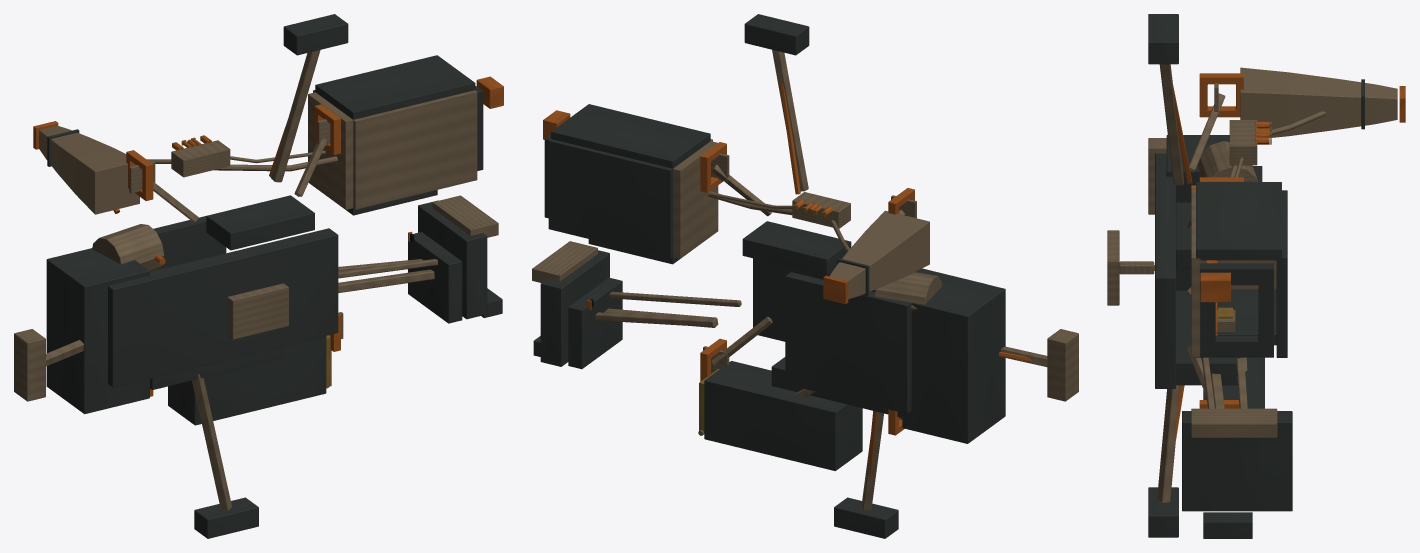
The model's file is place_claim_outpost_refinery.glb.
The picture shows the model from 3 angles, left to right: view 1: azimuth 30°, elevation 25°; view 2: azimuth 150°, elevation 25°; view 3: azimuth 270°, elevation 25°; orthographic projection. The views are drawn at different scales.
Visible parts, largest first — view 1: LOD1_Station_Material_Hull, LOD0_Station_Material_Hull, LOD2_Station_Material_Hull, LOD0_Station_Material_Mechanical, LOD1_Station_Material_Mechanical, LOD2_Station_Material_Mechanical, LOD2_Station_Material_Warm, LOD1_Station_Material_Warm, LOD0_Station_Material_Warm; view 2: LOD0_Station_Material_Hull, LOD1_Station_Material_Hull, LOD2_Station_Material_Hull, LOD1_Station_Material_Mechanical, LOD2_Station_Material_Mechanical, LOD0_Station_Material_Mechanical, LOD1_Station_Material_Warm, LOD2_Station_Material_Warm, LOD0_Station_Material_Warm; view 3: LOD0_Station_Material_Hull, LOD1_Station_Material_Hull, LOD2_Station_Material_Hull, LOD0_Station_Material_Mechanical, LOD2_Station_Material_Mechanical, LOD1_Station_Material_Mechanical, LOD1_Station_Material_Warm, LOD0_Station_Material_Warm, LOD2_Station_Material_Warm.
Part boxes in pixels (left/top/right/bottom): LOD1_Station_Material_Hull: left=46, top=14, right=502, bottom=538; LOD0_Station_Material_Hull: left=47, top=14, right=501, bottom=537; LOD2_Station_Material_Hull: left=46, top=14, right=502, bottom=538; LOD0_Station_Material_Mechanical: left=14, top=92, right=497, bottom=400; LOD1_Station_Material_Mechanical: left=14, top=90, right=498, bottom=400; LOD2_Station_Material_Mechanical: left=14, top=50, right=498, bottom=510; LOD2_Station_Material_Warm: left=33, top=78, right=503, bottom=396; LOD1_Station_Material_Warm: left=34, top=76, right=503, bottom=396; LOD0_Station_Material_Warm: left=35, top=80, right=501, bottom=347; LOD0_Station_Material_Hull: left=534, top=14, right=1005, bottom=537; LOD1_Station_Material_Hull: left=533, top=17, right=1005, bottom=537; LOD2_Station_Material_Hull: left=533, top=14, right=1005, bottom=538; LOD1_Station_Material_Mechanical: left=532, top=139, right=1077, bottom=434; LOD2_Station_Material_Mechanical: left=532, top=49, right=1078, bottom=510; LOD0_Station_Material_Mechanical: left=532, top=139, right=1078, bottom=434; LOD1_Station_Material_Warm: left=543, top=82, right=1031, bottom=478; LOD2_Station_Material_Warm: left=543, top=110, right=914, bottom=435; LOD0_Station_Material_Warm: left=543, top=113, right=913, bottom=411; LOD0_Station_Material_Hull: left=1149, top=14, right=1364, bottom=538; LOD1_Station_Material_Hull: left=1148, top=14, right=1291, bottom=538; LOD2_Station_Material_Hull: left=1148, top=14, right=1292, bottom=538; LOD0_Station_Material_Mechanical: left=1108, top=70, right=1396, bottom=436; LOD2_Station_Material_Mechanical: left=1107, top=64, right=1397, bottom=503; LOD1_Station_Material_Mechanical: left=1107, top=68, right=1396, bottom=437; LOD1_Station_Material_Warm: left=1154, top=73, right=1405, bottom=446; LOD0_Station_Material_Warm: left=1200, top=73, right=1405, bottom=408; LOD2_Station_Material_Warm: left=1199, top=73, right=1405, bottom=408.
Size of what is drawn, in the model's own units: 106 by 97.89 by 48.6.
5 materials, 5 textured.
